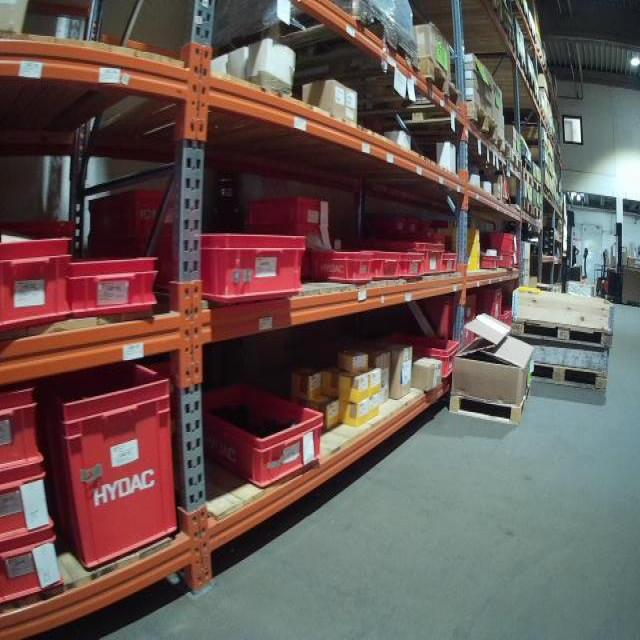pallet: (207, 4, 422, 95), (306, 51, 463, 117), (412, 94, 498, 145), (499, 314, 617, 340), (526, 364, 606, 389), (469, 120, 509, 165), (497, 137, 522, 173), (511, 197, 532, 219), (522, 201, 542, 224), (518, 161, 533, 187)
pallet_truck: (598, 217, 628, 298), (566, 203, 594, 288)
small_load_carrier: (55, 359, 184, 584), (197, 378, 324, 488), (165, 228, 306, 304), (83, 186, 193, 250), (5, 229, 73, 330), (398, 285, 477, 357), (72, 246, 153, 314), (2, 531, 64, 614), (0, 467, 59, 547), (0, 386, 51, 475), (371, 335, 457, 378), (250, 194, 333, 227), (305, 248, 367, 288), (410, 235, 447, 281), (369, 243, 405, 281), (484, 283, 500, 338), (400, 249, 427, 281), (492, 232, 523, 257), (472, 252, 499, 275), (441, 253, 462, 276), (498, 251, 514, 270)
